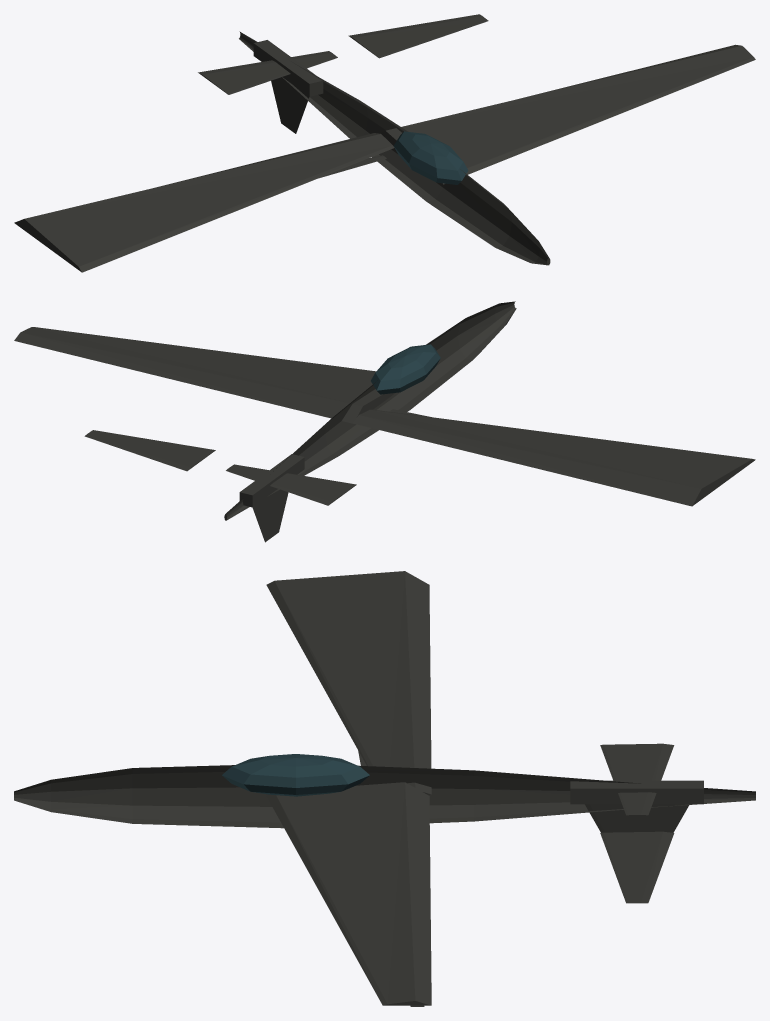
Rendered from b17_Destroyed.glb.
3 views of the same model, one above another, from view 1: azimuth 30°, elevation 25°; view 2: azimuth 150°, elevation 25°; view 3: azimuth 270°, elevation 25° (orthographic). The views are drawn at different scales.
Visible parts, largest first — view 1: Wing_L, Wing_R, Fuselage, Cockpit, Elevator_R, Elevator_L, TailBoom, Rudder; view 2: Wing_L, Wing_R, Fuselage, Cockpit, Elevator_R, Elevator_L, TailBoom, Rudder; view 3: Wing_R, Wing_L, Fuselage, Cockpit, Elevator_R, Elevator_L, TailBoom, Rudder.
Part boxes in pixels (x1,y1,x2,y2): Wing_L: (14, 133, 394, 272); Wing_R: (379, 44, 755, 184); Fuselage: (239, 31, 550, 265); Cockpit: (393, 131, 468, 184); Elevator_R: (348, 14, 488, 58); Elevator_L: (198, 51, 337, 94); TailBoom: (253, 40, 323, 96); Rudder: (271, 77, 309, 133); Wing_L: (353, 409, 755, 506); Wing_R: (14, 327, 395, 423); Fuselage: (224, 301, 516, 520); Cockpit: (371, 344, 440, 394); Elevator_R: (84, 430, 215, 471); Elevator_L: (226, 464, 356, 505); TailBoom: (239, 454, 304, 507); Rudder: (252, 489, 288, 542); Wing_R: (266, 782, 431, 1005); Wing_L: (266, 571, 431, 794); Fuselage: (14, 765, 755, 828); Cockpit: (222, 754, 369, 796); Elevator_R: (600, 831, 674, 903); Elevator_L: (600, 743, 674, 815); TailBoom: (570, 780, 703, 804); Rudder: (585, 804, 689, 832).
Bounding box in the file's own units: 30.43 × 3.6 × 22.6.
